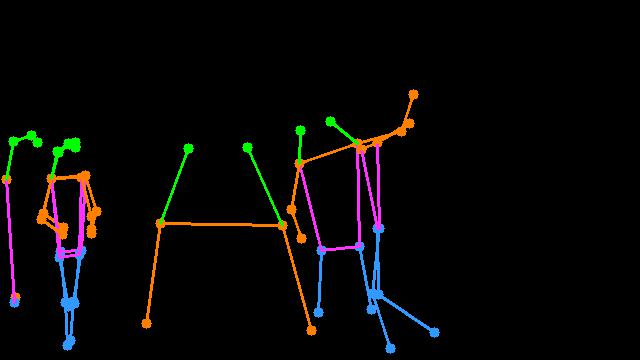normal: (31, 125, 116, 360)
